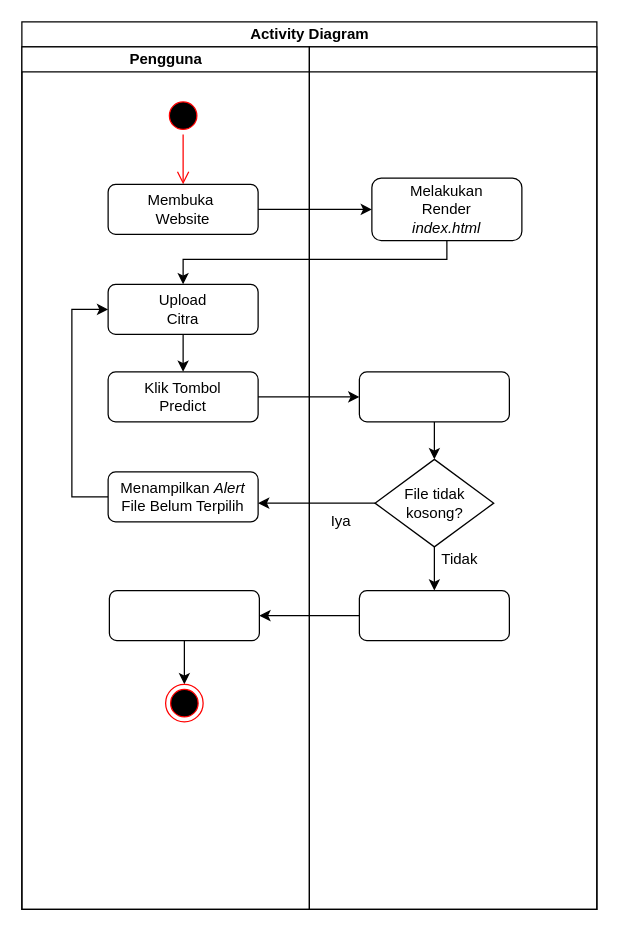
The diagram is 619 pixels wide and 931 high, and some of its shapes have lost their labels. Each missing label, with the box of its shape:
Melakukan Prediksi: (358, 589, 509, 641)
Menampilkan Hasil Prediksi: (108, 589, 259, 641)
Sistem: (308, 46, 597, 909)
Validasi: (358, 371, 509, 422)
